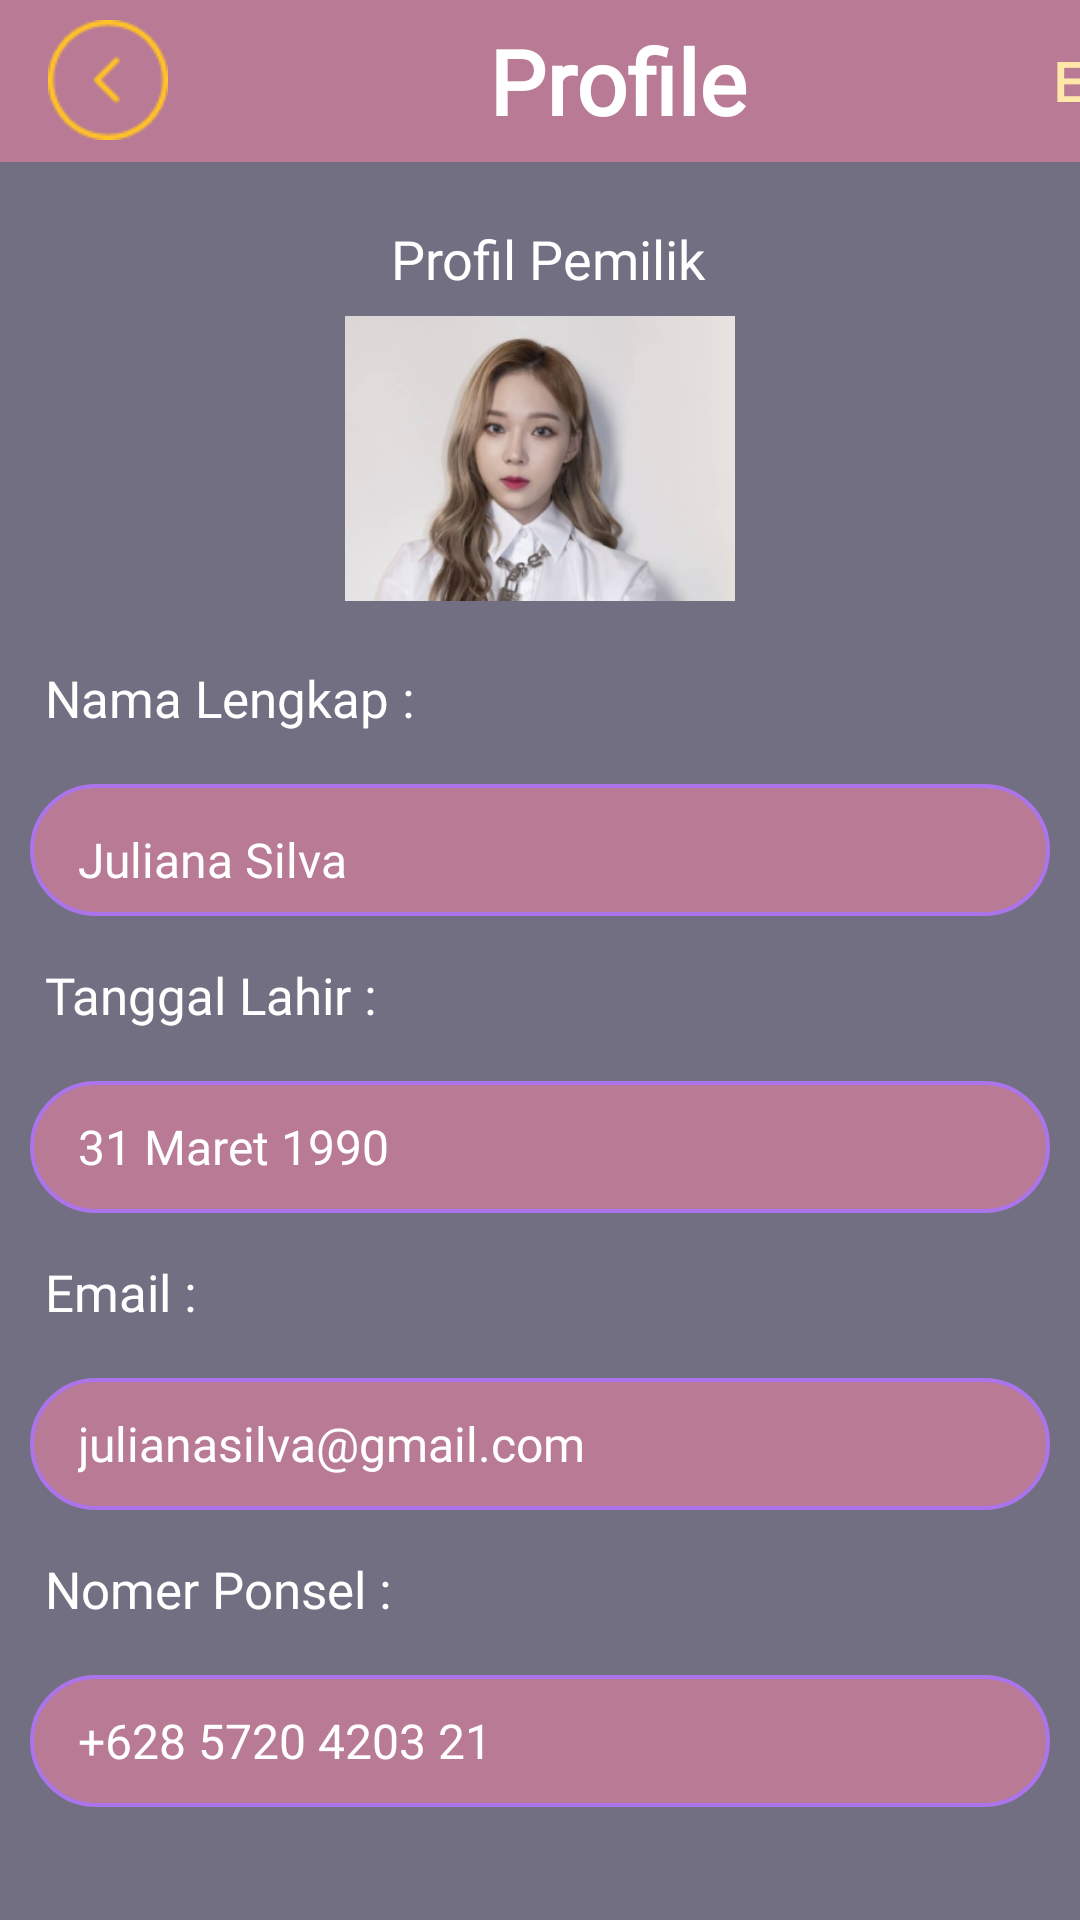

Screen size 1080 x 1920. Icon name, then its box in pixels as {"x1": x1, "y1": y1, "x2": x2, "y2": y2}:
back: {"x1": 48, "y1": 20, "x2": 168, "y2": 140}
